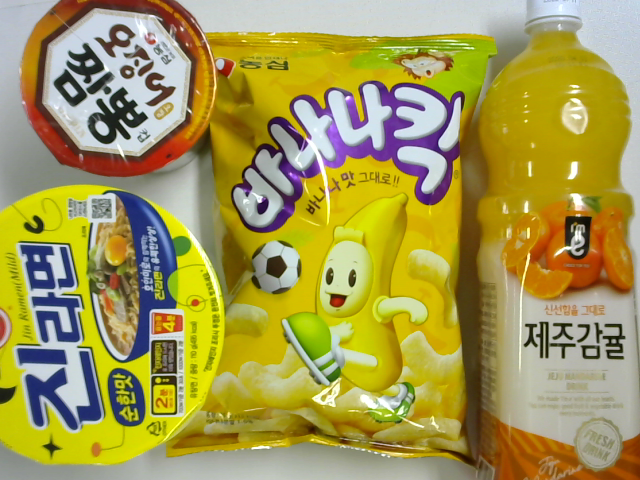Banana_Kick: (191, 22, 473, 478)
Jeju_Tangerine_1.5L: (475, 1, 638, 480)
Jinlamyeon_Mild_Taste_Large_Cup: (3, 184, 227, 474)
Ojjam: (21, 8, 209, 182)
